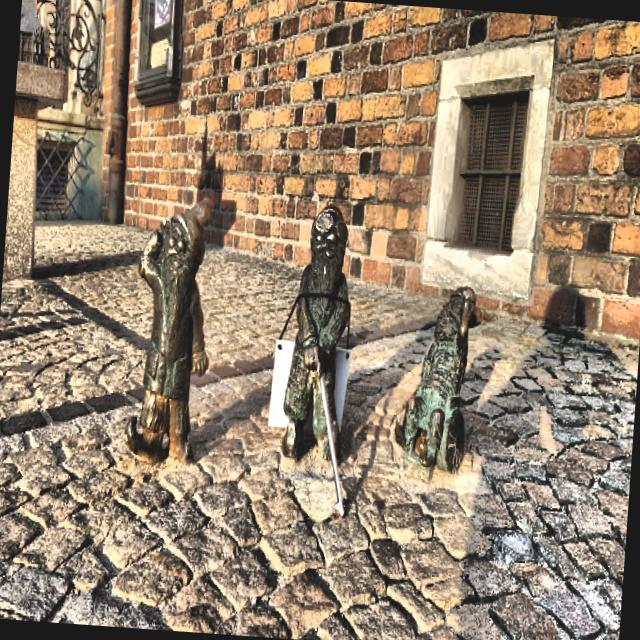Gluchak: (125, 199, 209, 460)
Slepak: (282, 207, 350, 513)
W-Skers: (395, 286, 481, 472)
